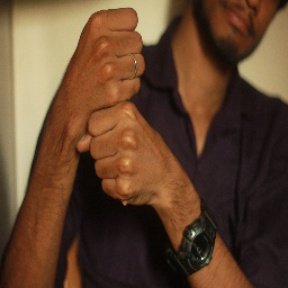G: (58, 4, 171, 209)
